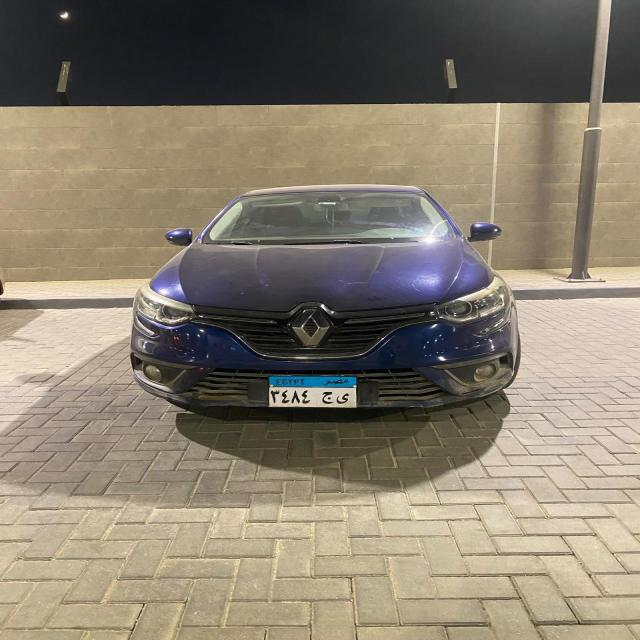car-plate: (270, 377, 354, 406)
